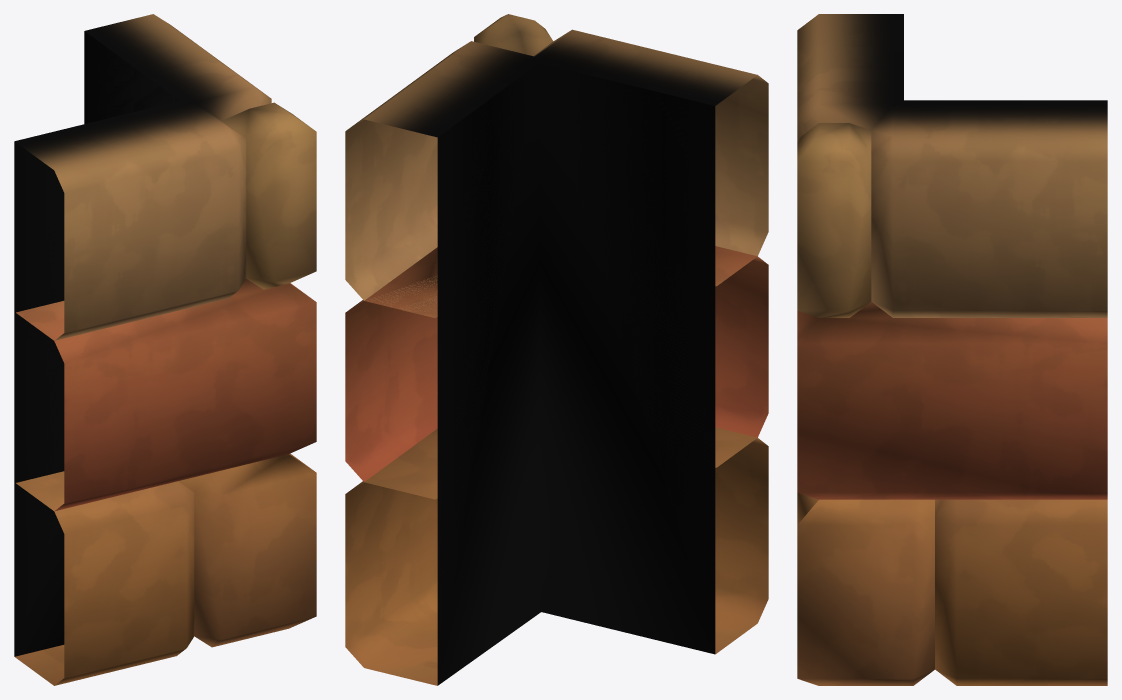
File: Mur_CoinB.FBX
3 views of the same model, side by side, from view 1: azimuth 30°, elevation 25°; view 2: azimuth 150°, elevation 25°; view 3: azimuth 270°, elevation 25° (orthographic). The views are drawn at different scales.
Parts seen in each view (by area): view 1: Mur_CoinB; view 2: Mur_CoinB; view 3: Mur_CoinB.
Part boxes in pixels (x1=…): Mur_CoinB: x1=14, y1=14, x2=316, y2=685; Mur_CoinB: x1=345, y1=14, x2=768, y2=685; Mur_CoinB: x1=797, y1=14, x2=1107, y2=685.
Bounding box in the file's own units: 1.14 × 2.23 × 1.14.
